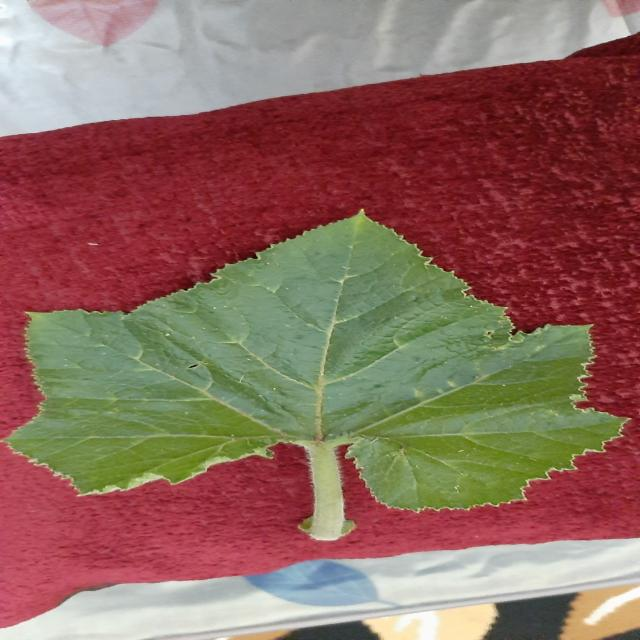pumpkin: (8, 214, 626, 540)
